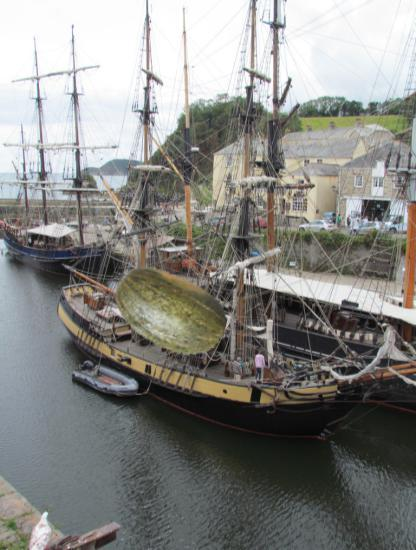Melon: (111, 252, 228, 369)
